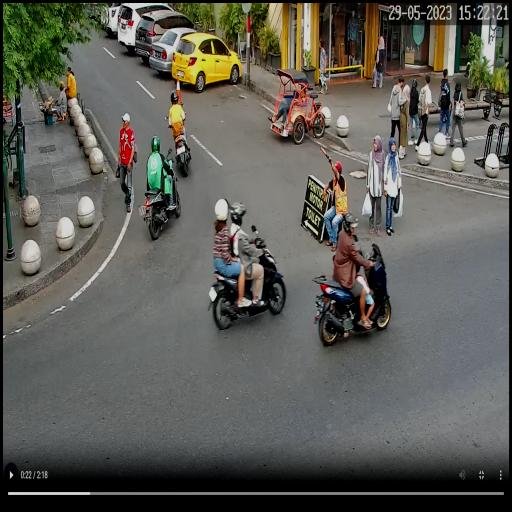mobil: (173, 31, 242, 93), (136, 6, 204, 65), (118, 0, 177, 48), (149, 26, 199, 76)
motor: (206, 226, 286, 328), (312, 247, 394, 346), (140, 152, 181, 240), (164, 112, 191, 176)
